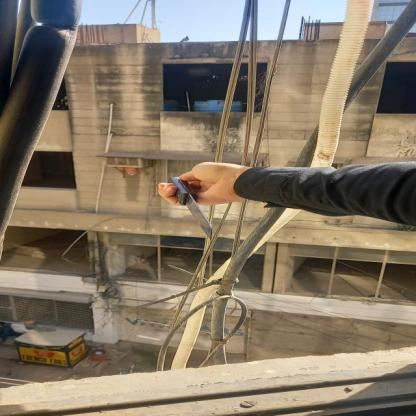Knife: (164, 176, 217, 246)
